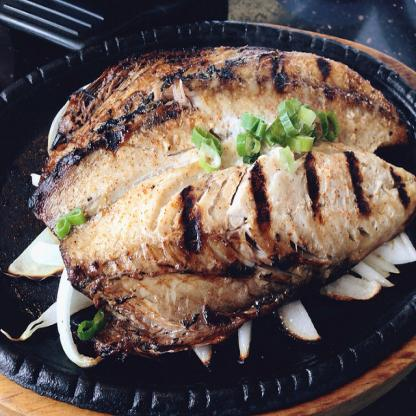Peixe: (36, 41, 416, 367)
